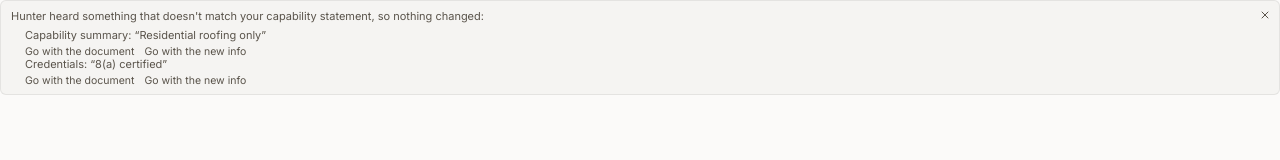
Scenario: CapabilityConflictHint › settles one row without clearing the others
Click the button "Go with the document" below "Capability summary": {"x": 80, "y": 52} [25,47,134,57]
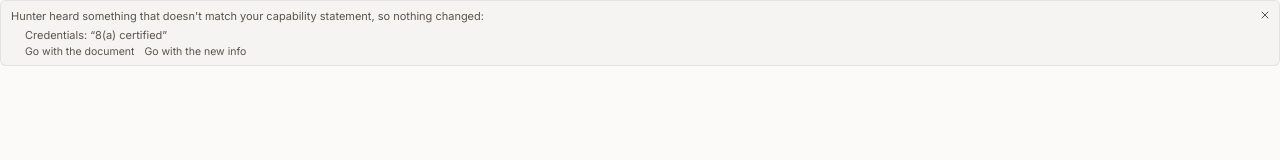
Expected: the text "8(a) certified" is shown, [95,28,162,42]
Expected: the text "Residential roofing only" is gone
